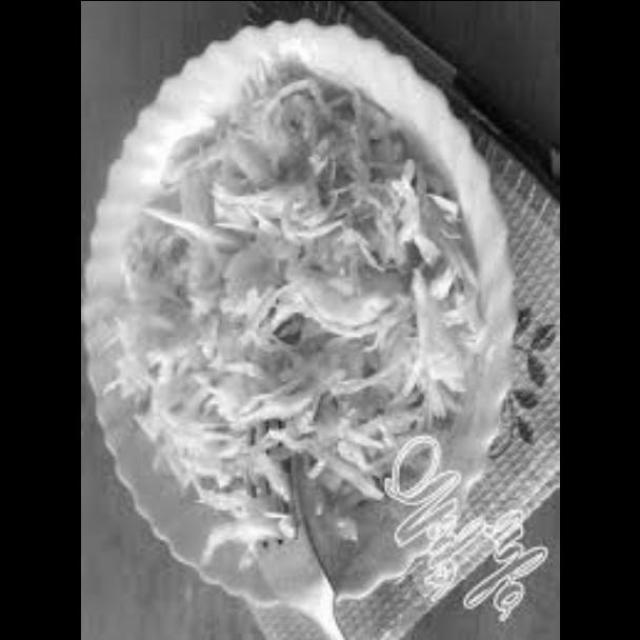ca rot: (268, 125, 357, 222)
cai bap: (91, 74, 482, 560)
